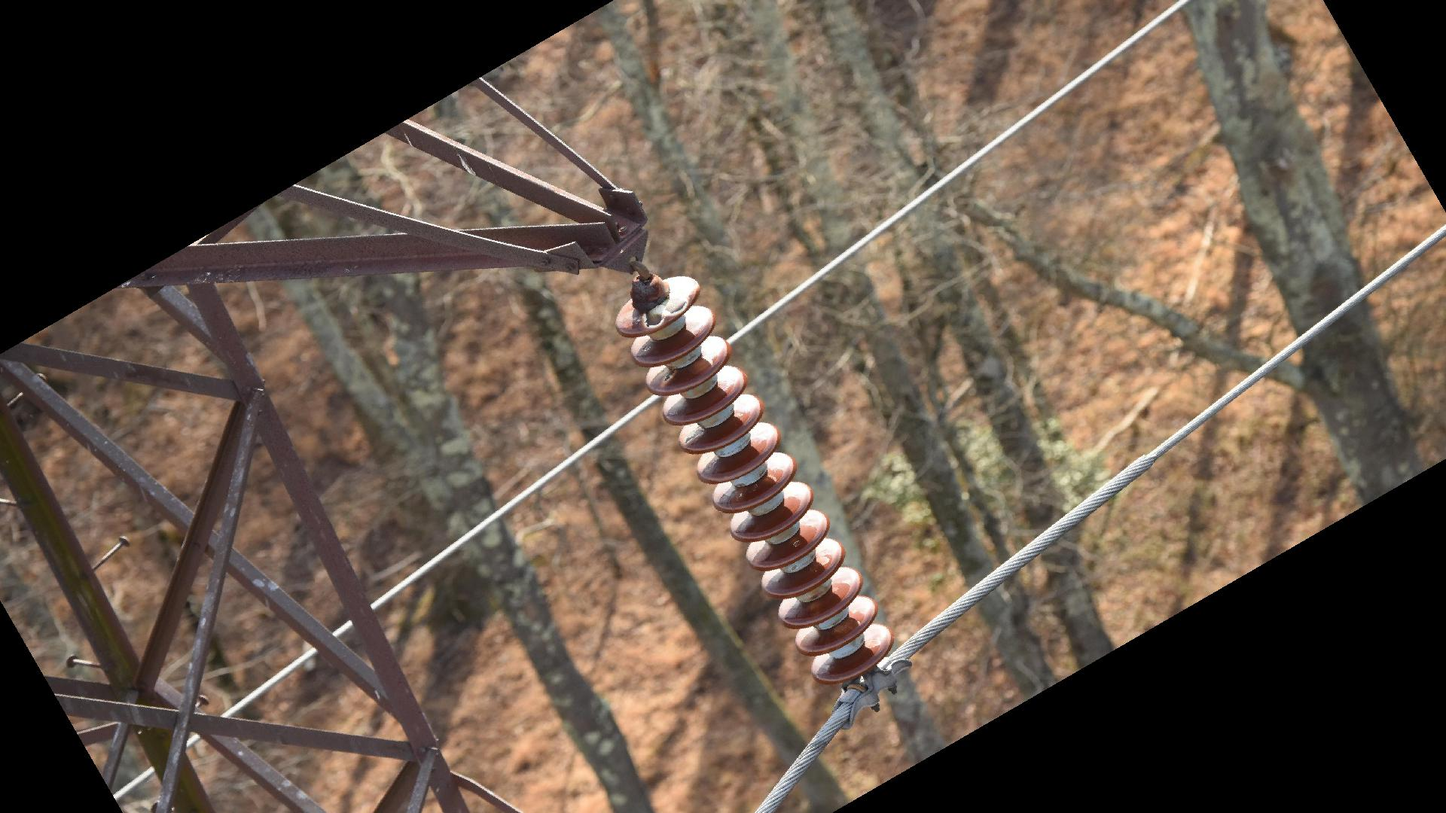insulator: (608, 268, 898, 692)
insulator_flashover: (640, 288, 691, 331)
